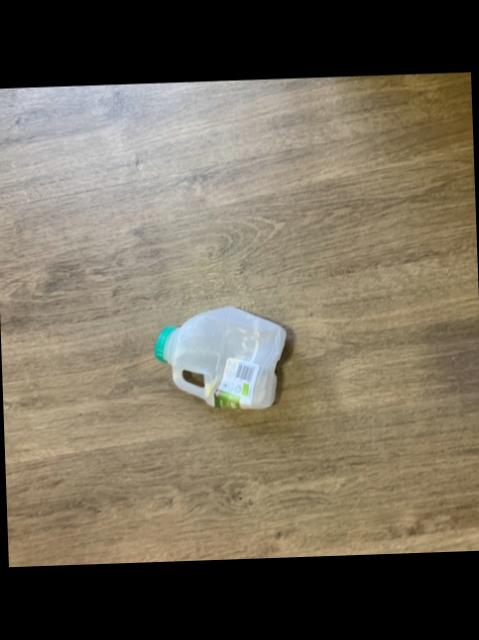plastic: (151, 308, 282, 410)
